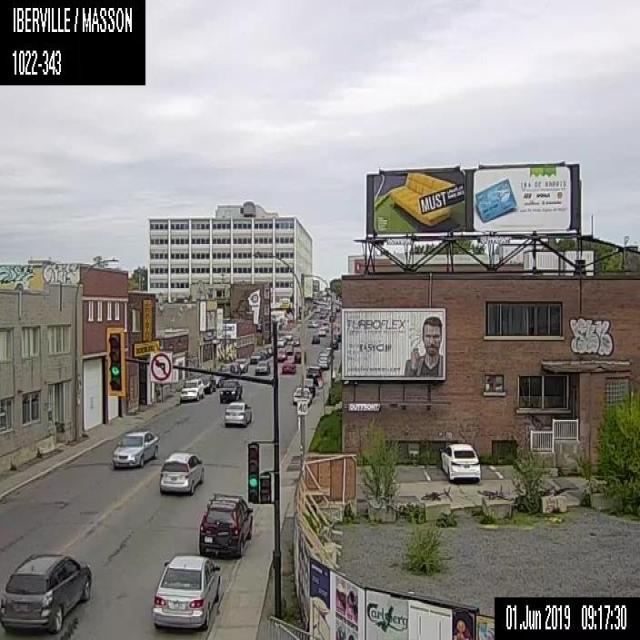vehicle: (0, 550, 92, 630), (150, 553, 222, 628), (198, 492, 252, 557), (158, 451, 204, 492), (111, 428, 159, 467), (438, 443, 481, 483), (223, 400, 251, 426), (179, 377, 204, 402), (219, 380, 243, 400), (291, 385, 312, 404), (198, 374, 216, 393), (305, 364, 321, 385), (281, 356, 296, 374), (300, 377, 315, 395), (254, 359, 271, 374), (234, 356, 249, 372), (217, 363, 234, 377), (293, 348, 306, 363), (276, 346, 286, 362), (249, 350, 261, 362), (317, 356, 328, 369), (318, 350, 331, 361), (311, 332, 319, 344), (291, 336, 300, 346), (329, 339, 338, 349), (333, 331, 341, 342), (284, 344, 292, 354), (318, 326, 326, 336), (276, 337, 284, 346), (285, 331, 292, 340)
